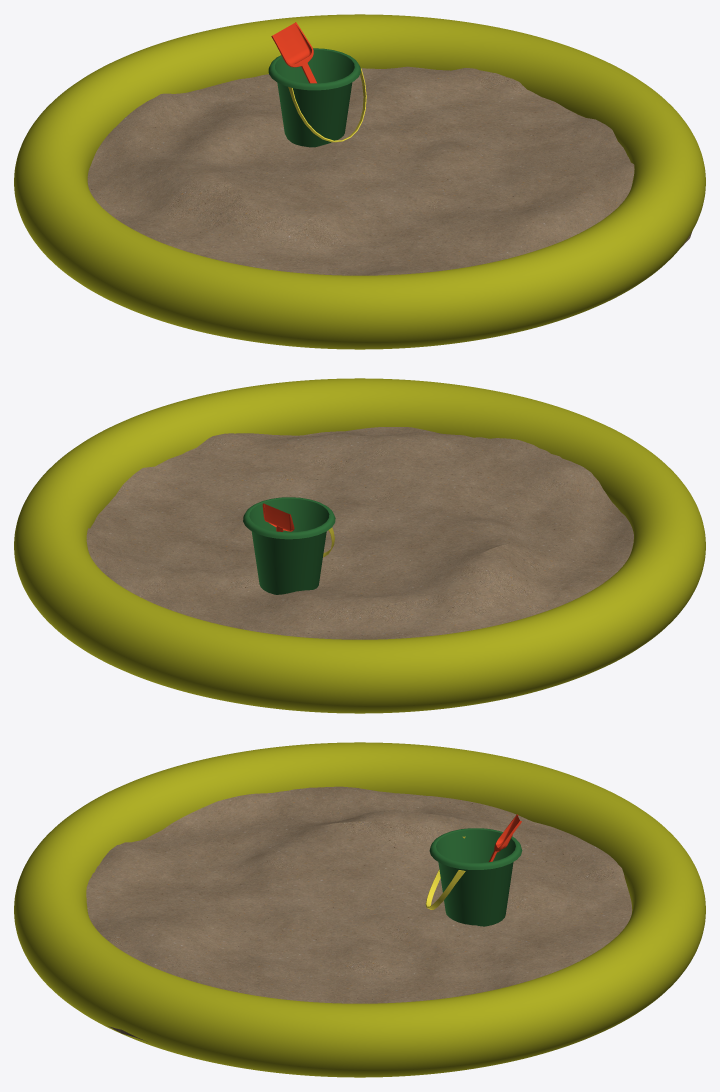
Rendered from sand_area.fbx.
The picture shows the model from 3 angles, top to bottom: view 1: azimuth 30°, elevation 25°; view 2: azimuth 150°, elevation 25°; view 3: azimuth 270°, elevation 25°; orthographic projection.
Visible parts, largest first — view 1: sand, Spade; view 2: sand, Spade; view 3: sand, Spade.
Boxes of the visible parts, x1=… form: sand: x1=14, y1=14, x2=705, y2=349; Spade: x1=268, y1=22, x2=366, y2=147; sand: x1=14, y1=378, x2=705, y2=713; Spade: x1=243, y1=497, x2=335, y2=594; sand: x1=14, y1=742, x2=705, y2=1077; Spade: x1=425, y1=814, x2=522, y2=926.
Bounding box in the file's own units: 944 × 197 × 944.
5 materials, 1 textured.
